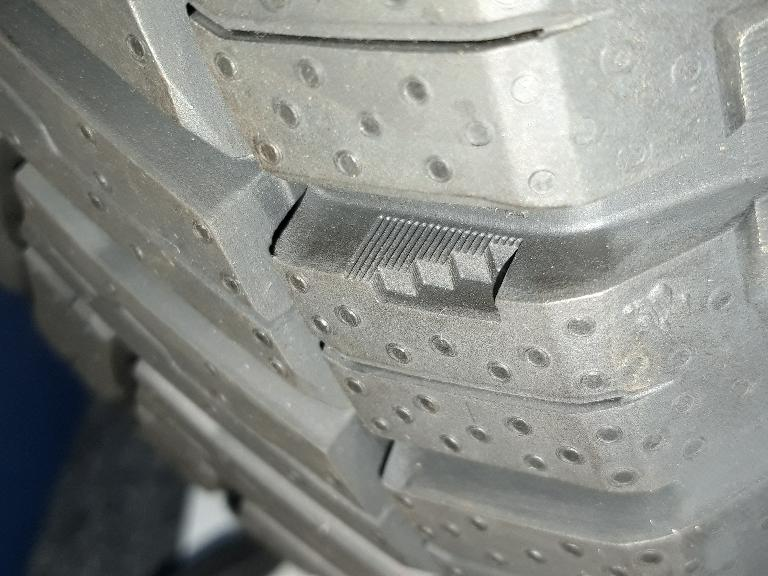temoin:100: (333, 207, 536, 335)
